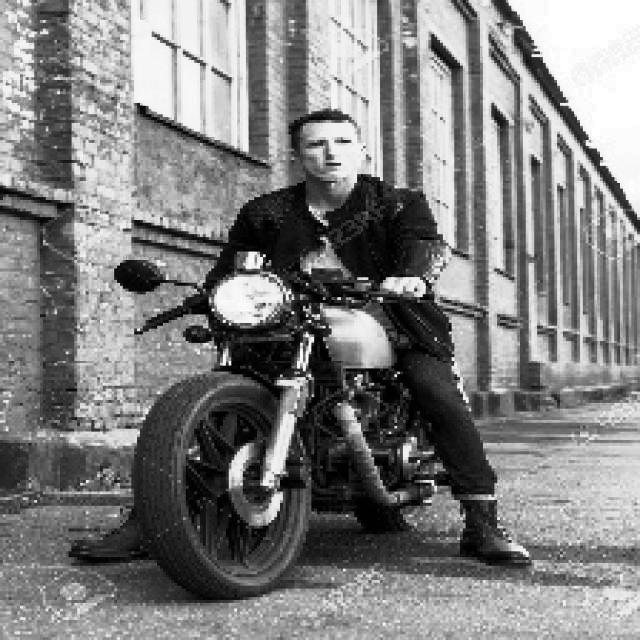Bike: (110, 250, 445, 594)
